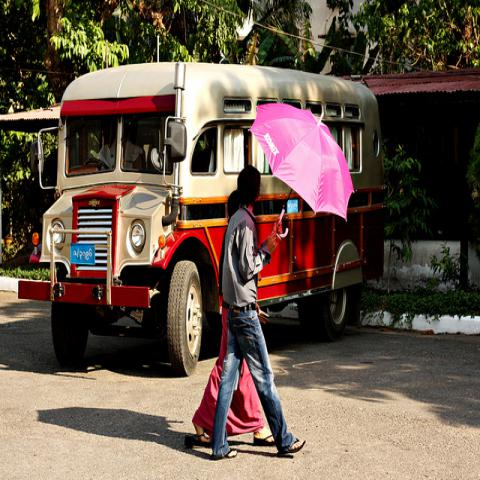bus: (16, 57, 392, 380)
